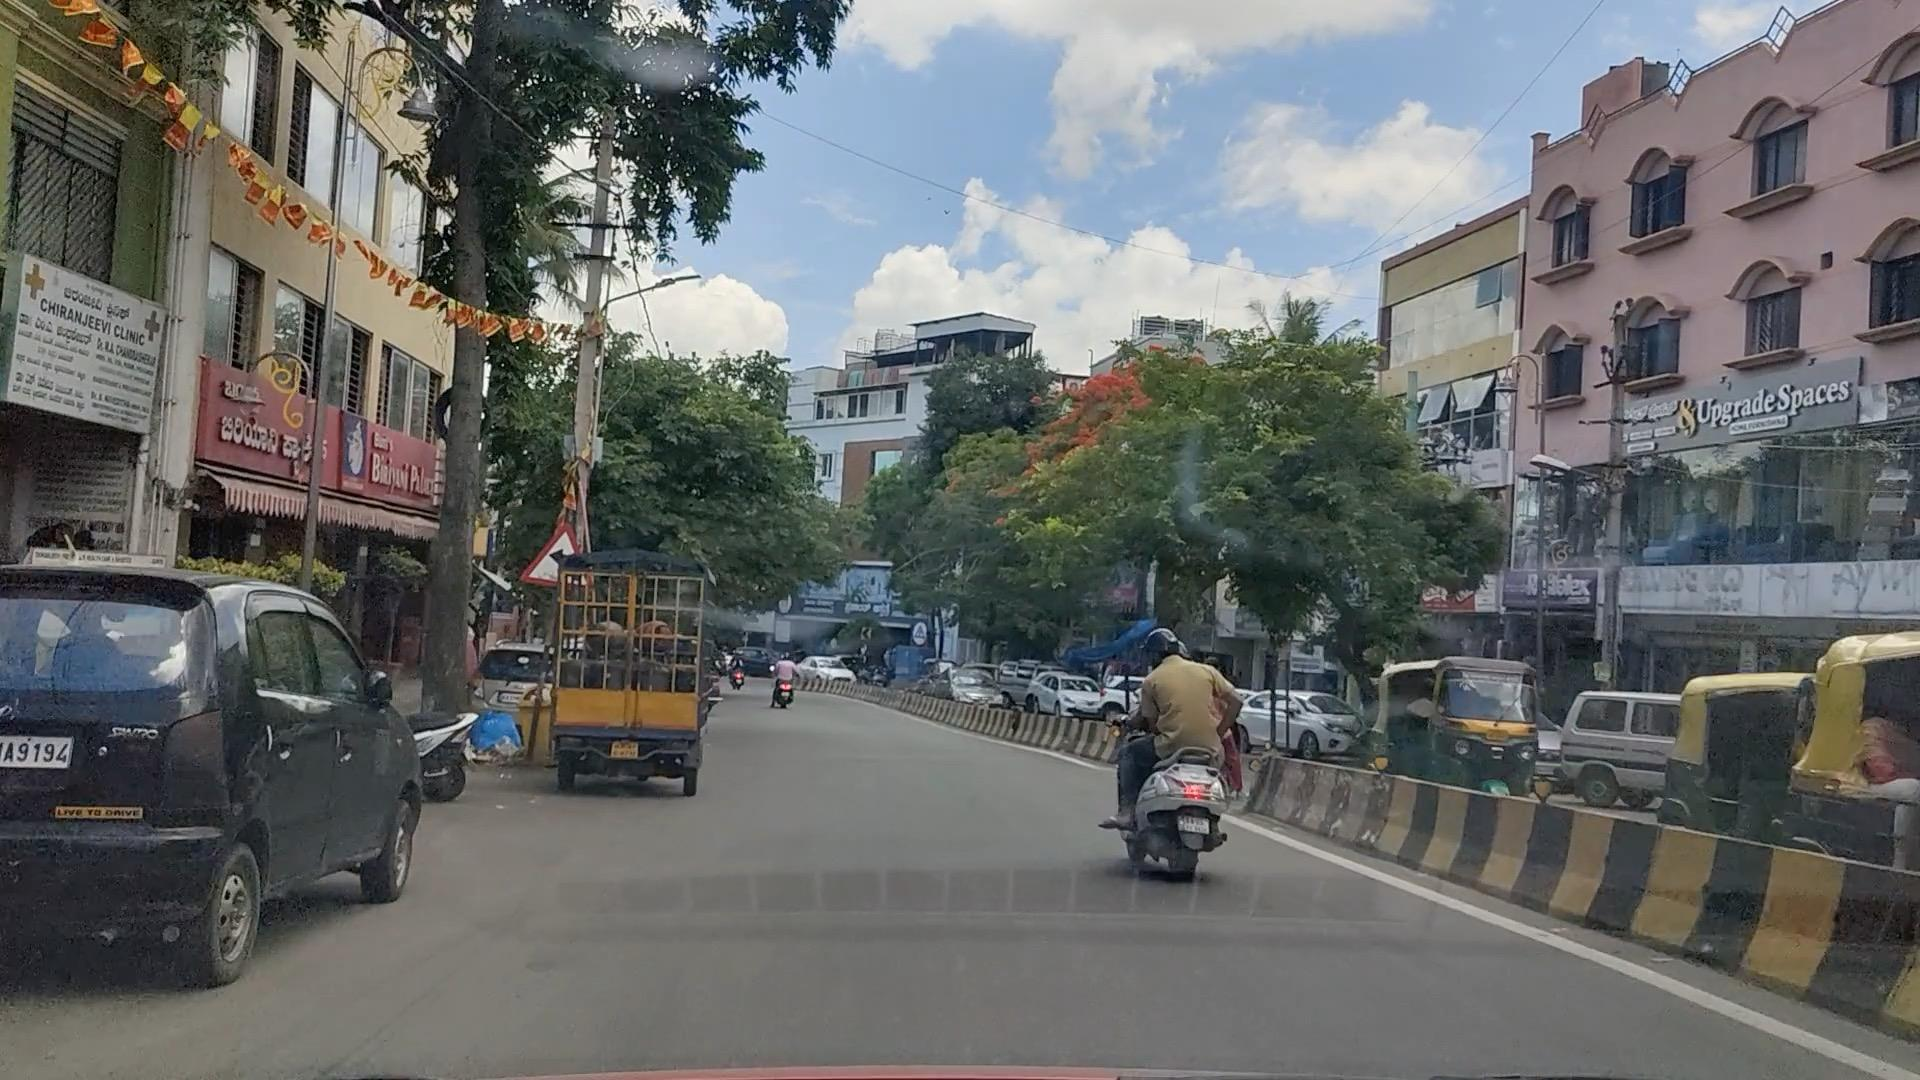LMV: (0, 620, 373, 1080), (541, 574, 712, 799), (1126, 633, 1234, 915)
